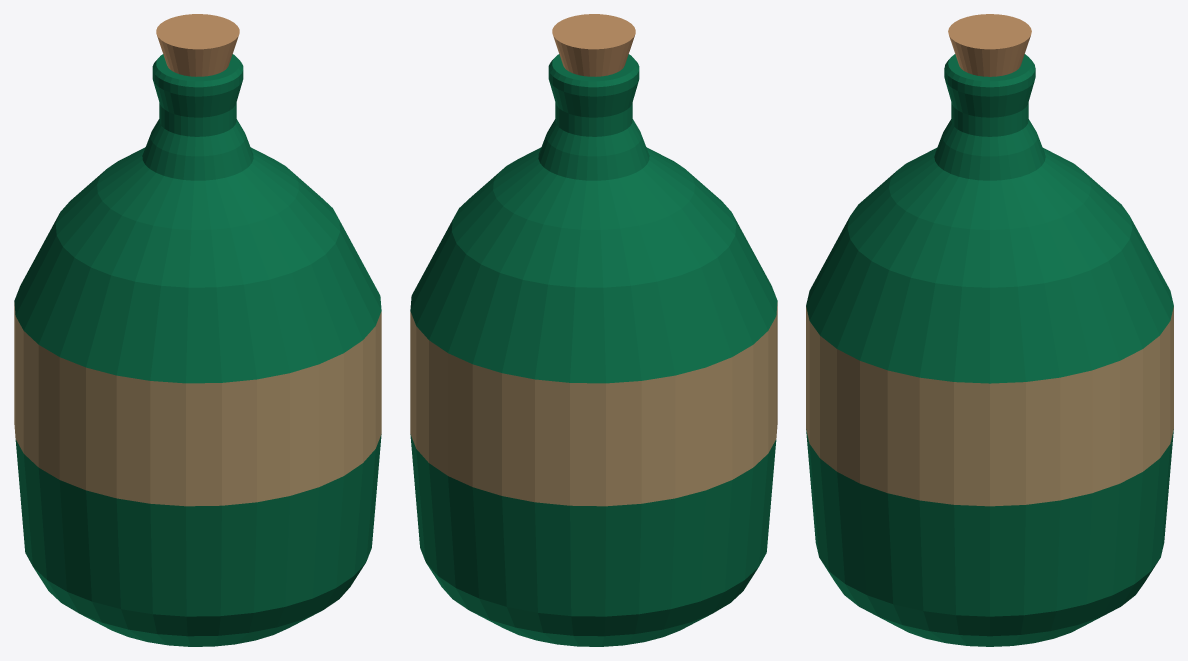
The model's file is WineBottle3_Aqua.fbx.
The picture shows the model from 3 angles, left to right: view 1: azimuth 30°, elevation 25°; view 2: azimuth 150°, elevation 25°; view 3: azimuth 270°, elevation 25°; orthographic projection.
Visible parts, largest first — view 1: WineBottle V3 Aqua; view 2: WineBottle V3 Aqua; view 3: WineBottle V3 Aqua.
Part boxes in pixels (x1=…): WineBottle V3 Aqua: x1=14, y1=14, x2=381, y2=646; WineBottle V3 Aqua: x1=410, y1=14, x2=777, y2=646; WineBottle V3 Aqua: x1=806, y1=14, x2=1173, y2=646.
Size of the model in its own units: 10 by 17 by 10.
